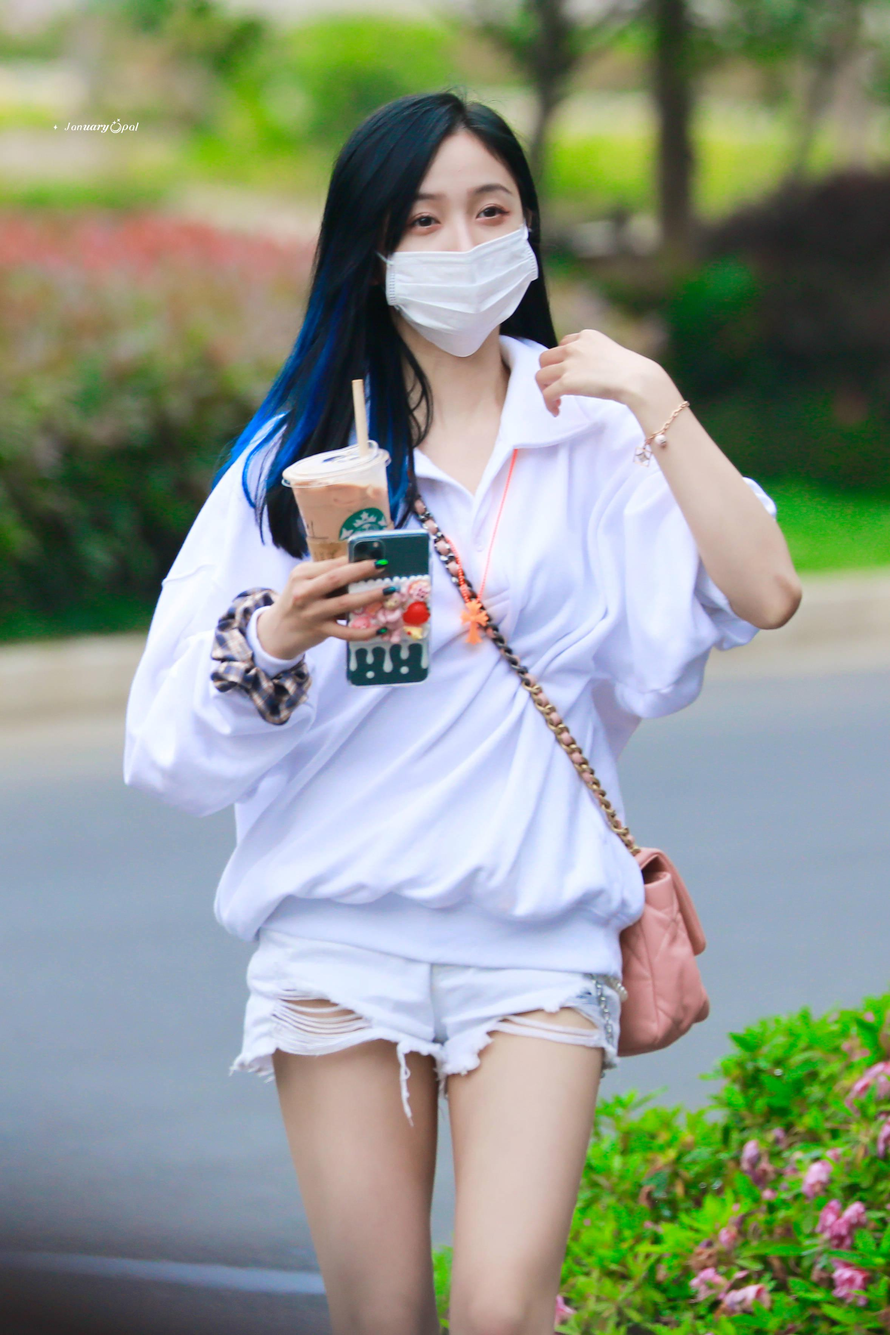OK: (384, 164, 534, 359)
